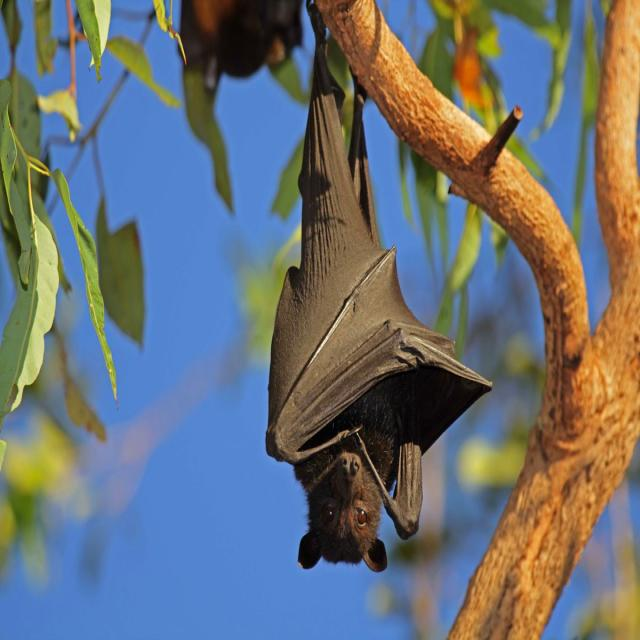bat: (266, 2, 492, 571)
